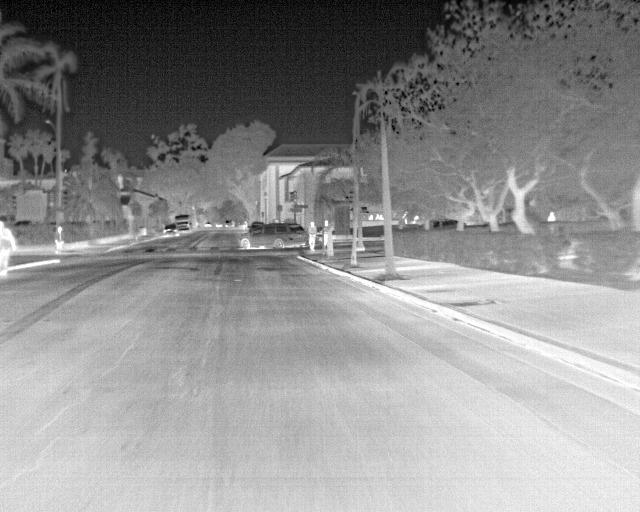bicycle: (238, 221, 306, 254), (173, 213, 192, 233), (159, 223, 178, 237)
empty: (0, 220, 21, 283), (52, 224, 66, 255), (305, 219, 317, 253), (318, 218, 330, 251), (545, 209, 560, 223)
